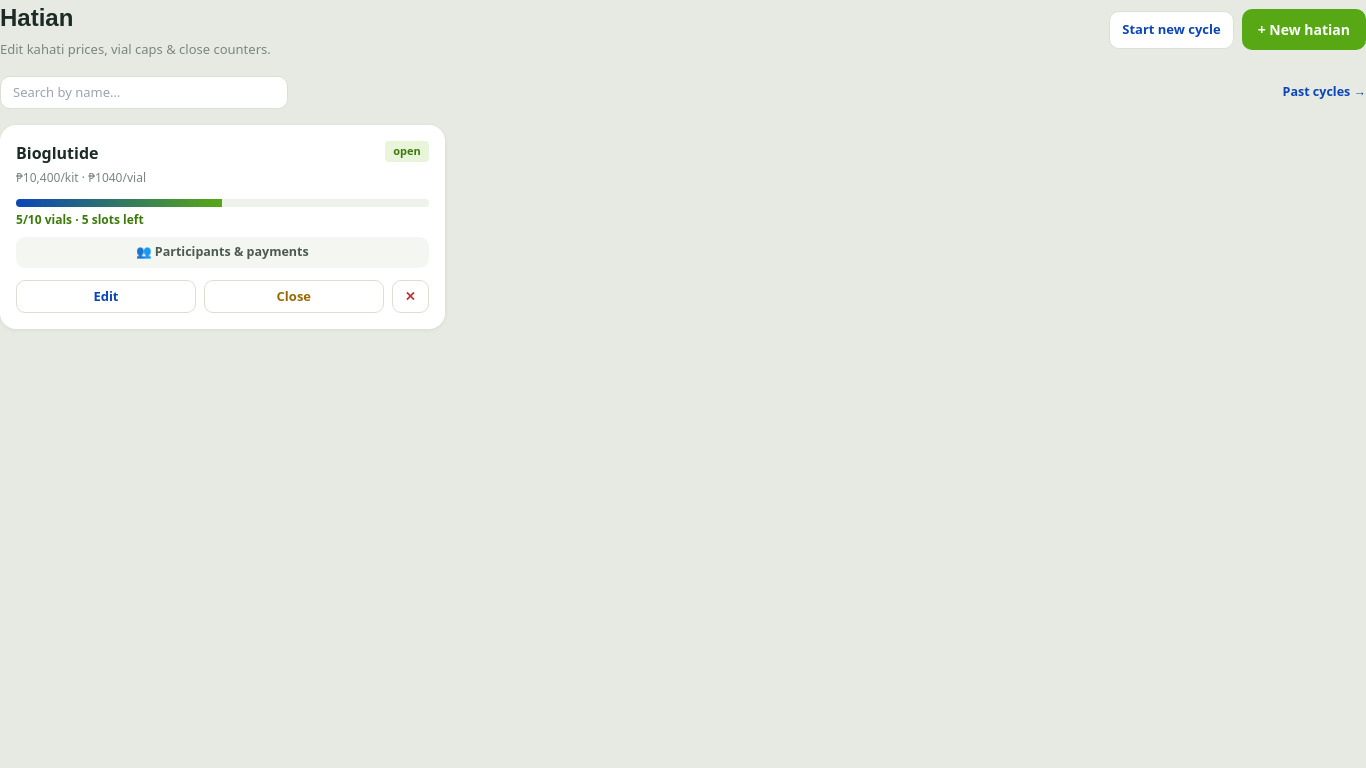
AdminGroupBuysPage › shows the failure reason in the form when a save is rejected
The image size is (1366, 768).
Click the button "Edit".
click(106, 297)  # box [16,280,196,313]
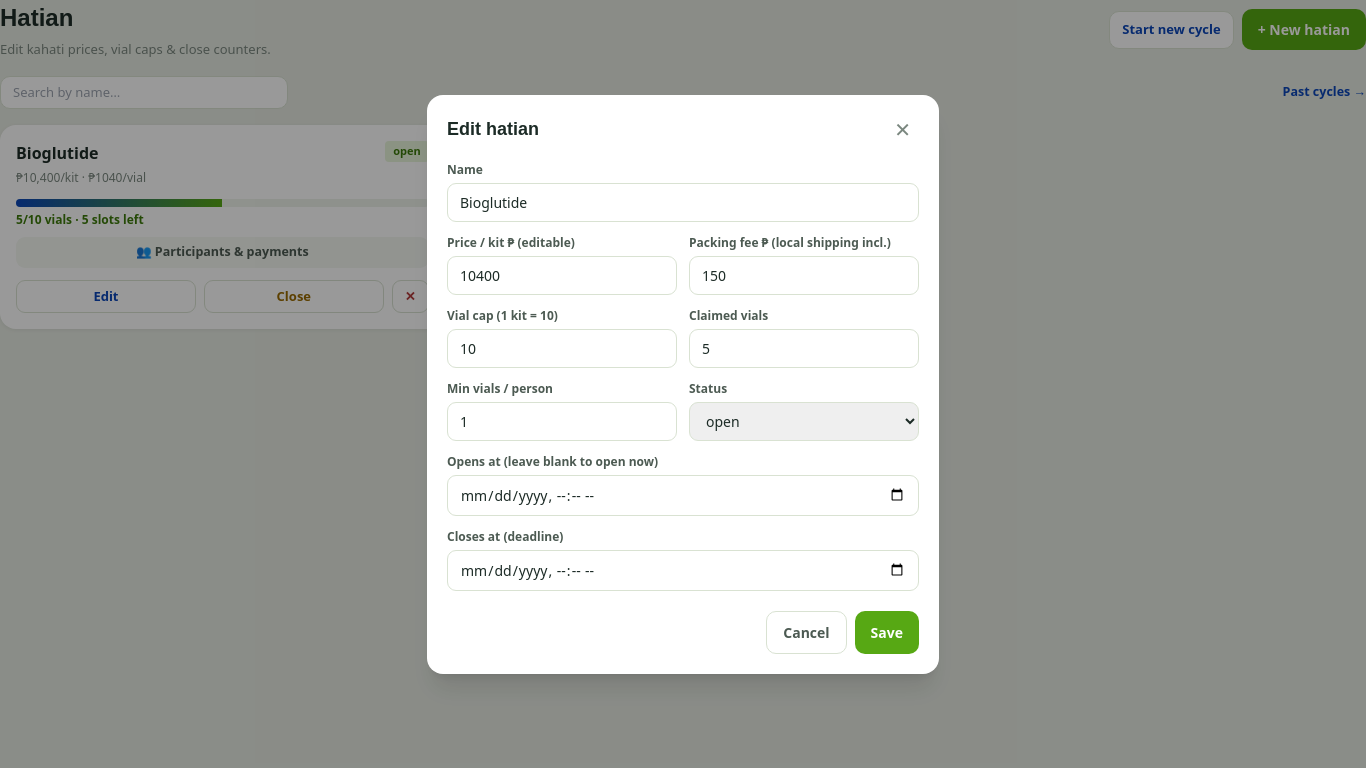
Expected: the text "Edit hatian" is shown, [447,116,539,143]
Click the button "Save".
click(887, 632)  # box [855,610,919,654]
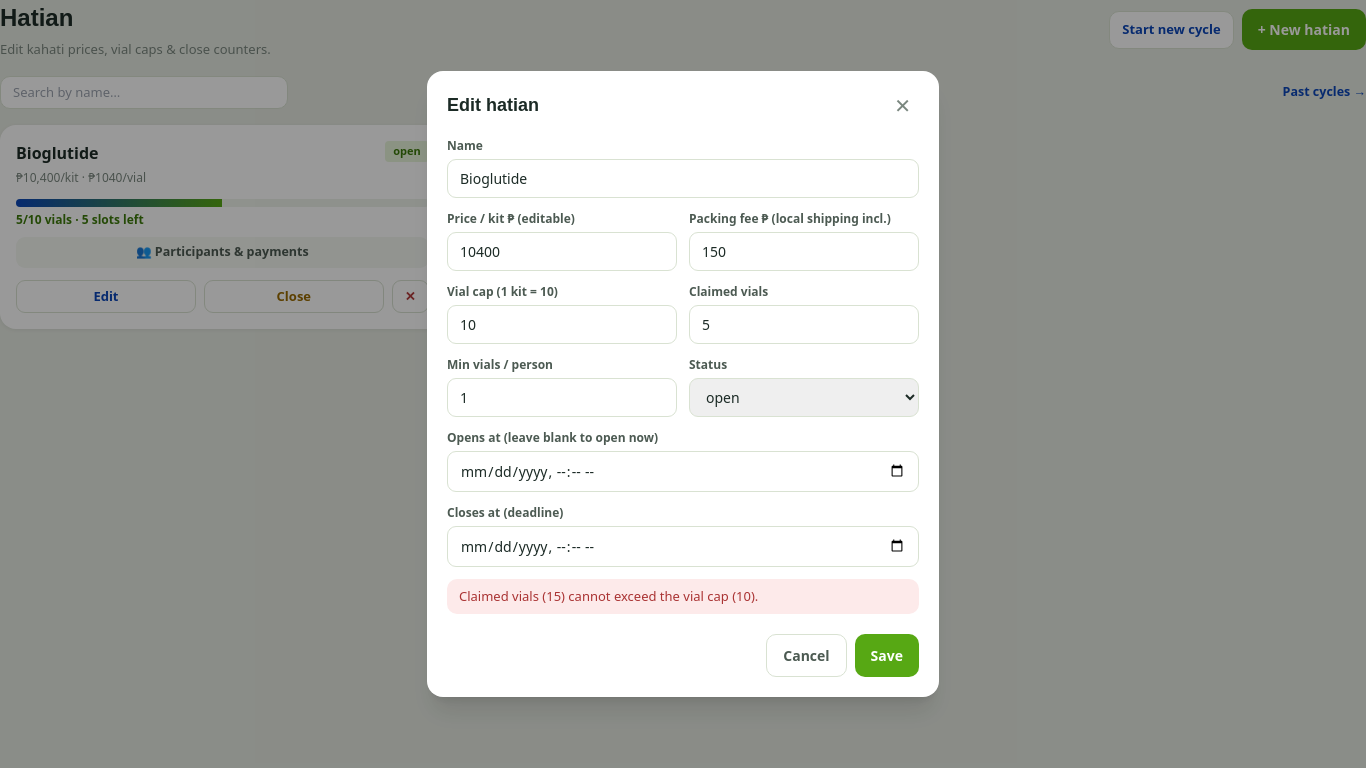
Expected: the text "Edit hatian" is shown, [447,92,539,119]
Expected: the message shows "cannot exceed", [459,587,758,605]
